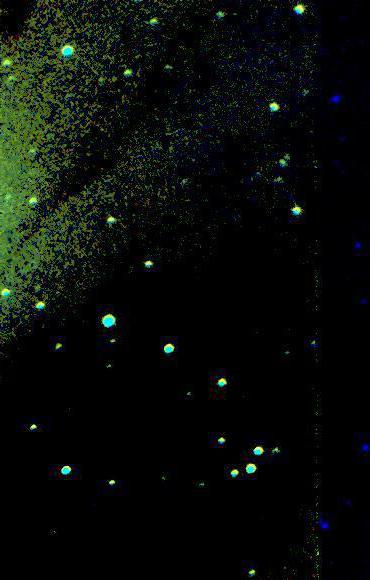star: (98, 66, 128, 96)
